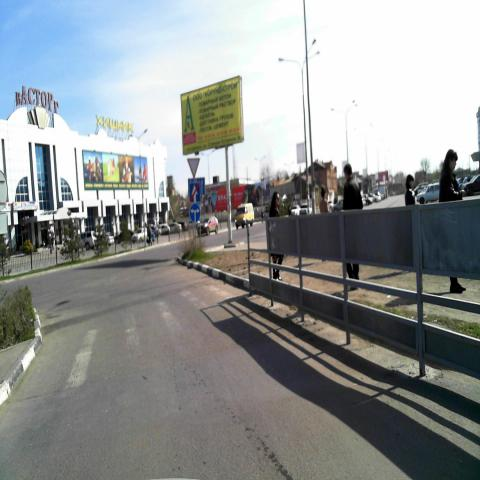4_1_6: (189, 204, 200, 222)
5_6: (189, 182, 199, 202)
